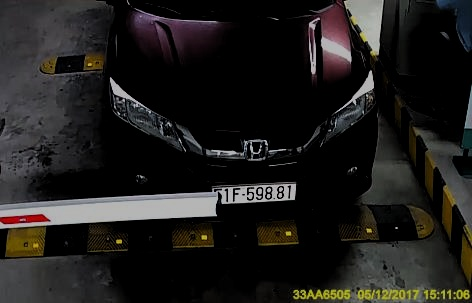plate: (211, 181, 297, 206)
